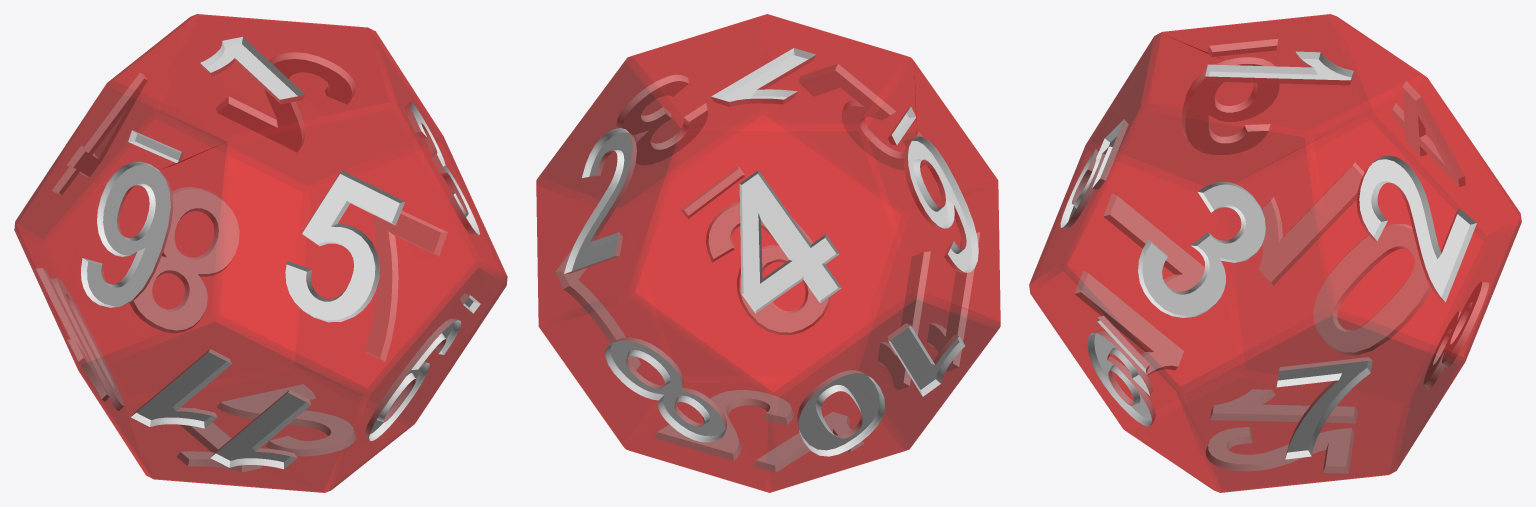
3 views of the same model, side by side, from view 1: azimuth 30°, elevation 25°; view 2: azimuth 150°, elevation 25°; view 3: azimuth 270°, elevation 25° (orthographic). The views are drawn at different scales.
Parts seen in each view (by area): view 1: export; view 2: export; view 3: export.
Part boxes in pixels (<box>): export: <box>14,14,507,492</box>; export: <box>536,14,1000,492</box>; export: <box>1029,14,1521,492</box>.
Bounding box in the file's own units: 0.0582 × 0.049 × 0.0596.
